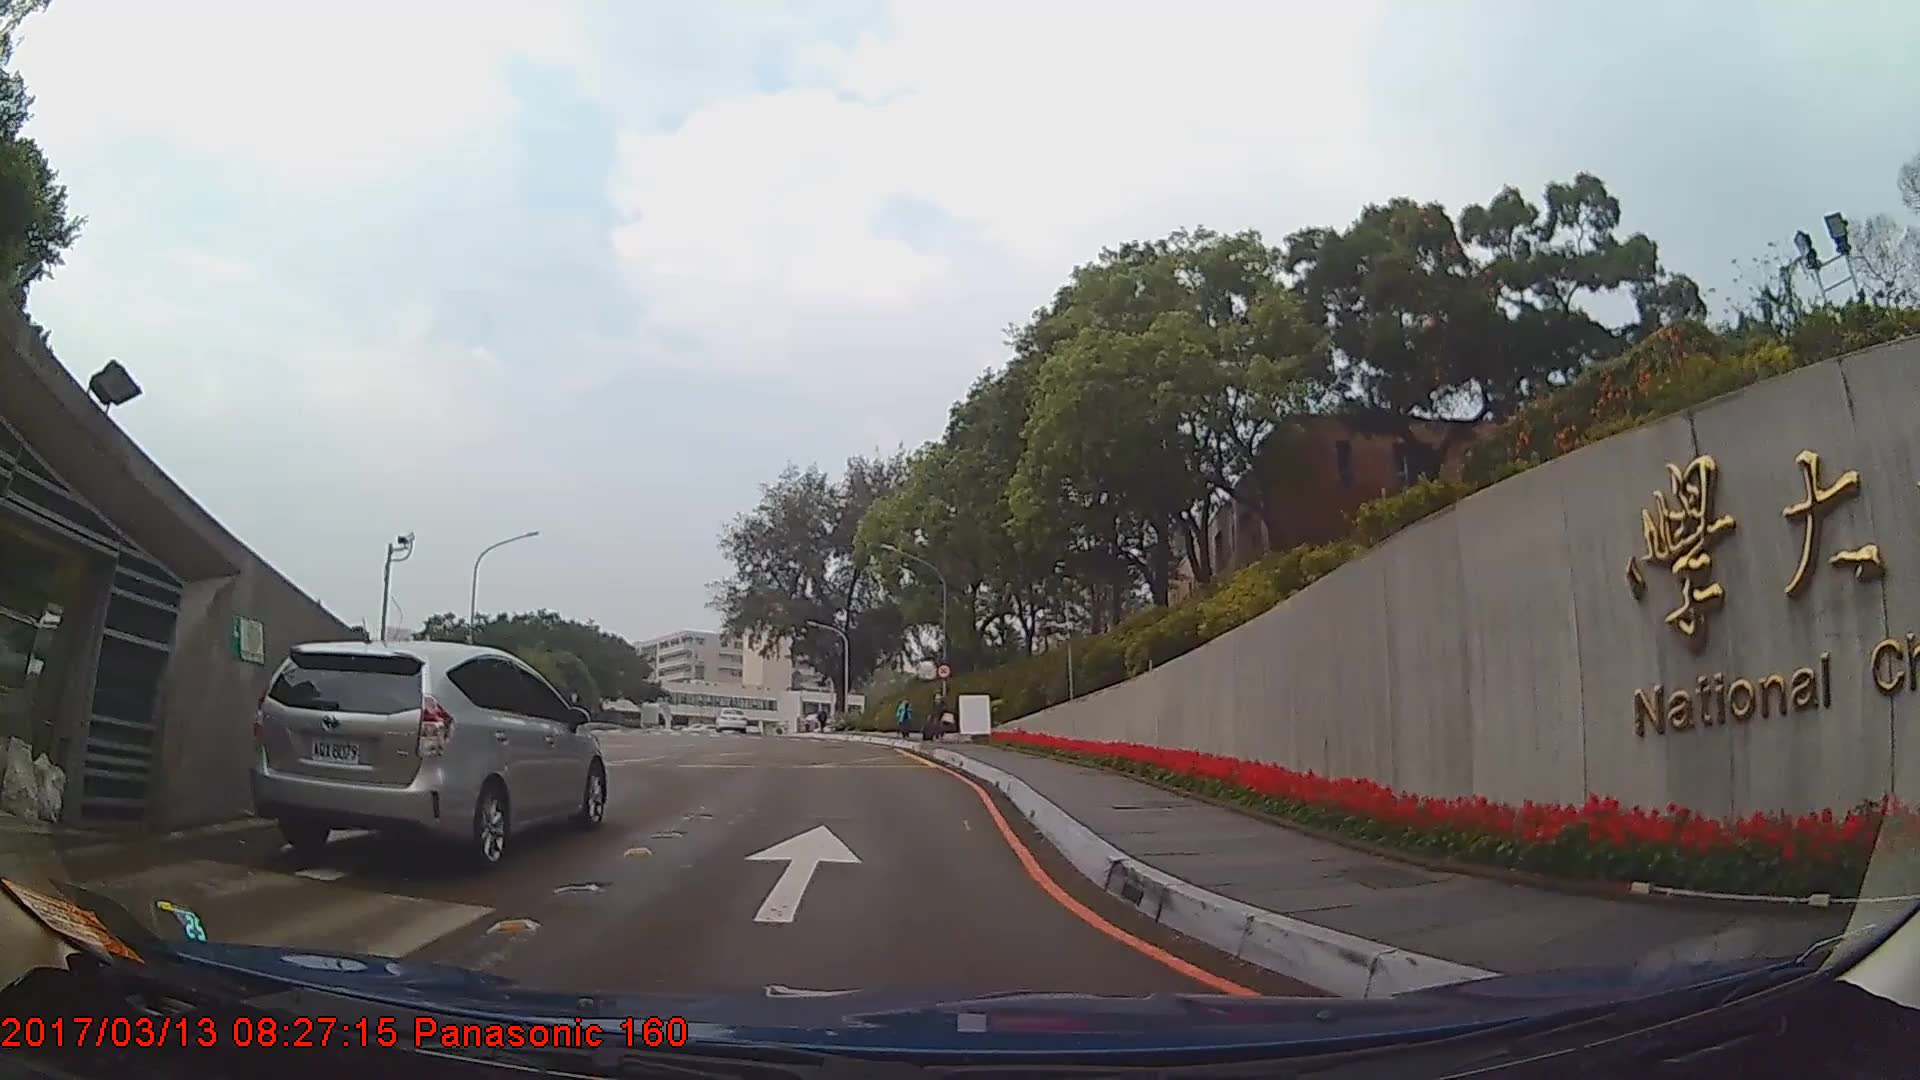pedestrian: (922, 691, 953, 742), (895, 698, 915, 744)
vehicle: (250, 636, 608, 874), (709, 703, 747, 732)
